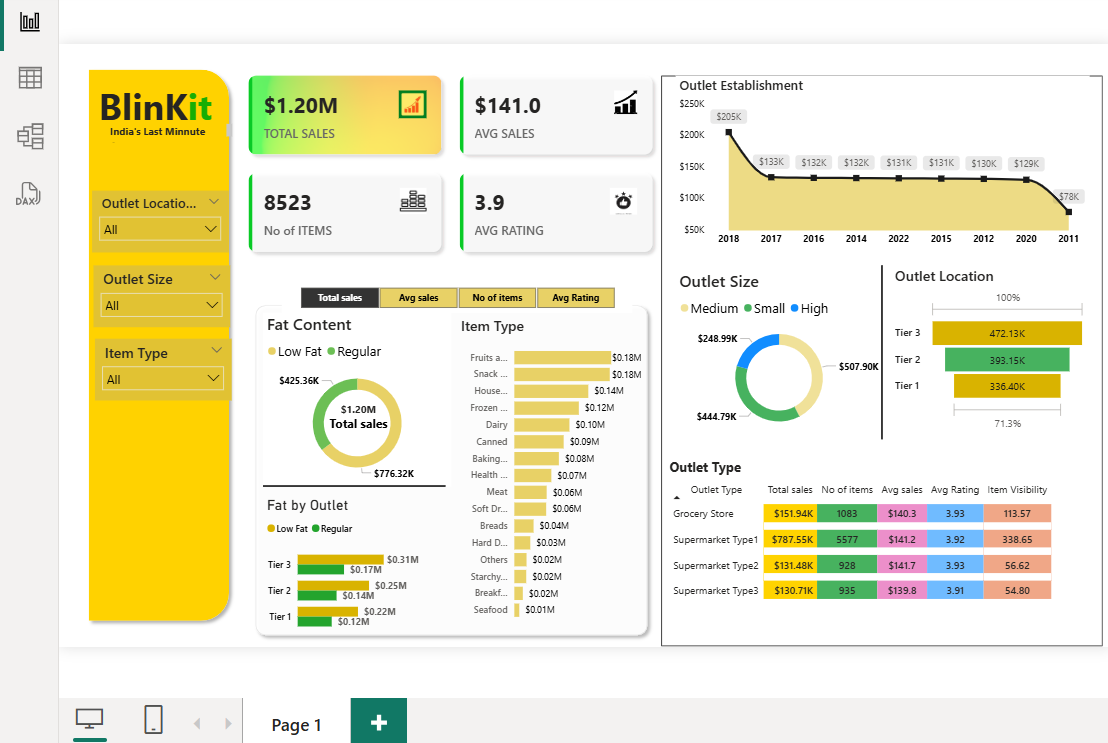

Layout of this report page (visuals, bound fields, positions):
{"tool":"powerbi","page":{"name":"Page 1","canvas":[1400,800],"ordinal":0},"visuals":[{"type":"shape","box":[30.5,24.8,204.2,750],"z":0},{"type":"textbox","box":[280.5,664.2,202.3,110.7],"z":1000},{"type":"textbox","box":[47.7,43.9,164.1,91.6],"z":2000},{"type":"textbox","box":[425.6,181.3,313,122.1],"z":3000},{"type":"textbox","box":[280.5,566.8,202.3,97.3],"z":4000},{"type":"textbox","box":[63,101.2,171.8,34.4],"z":5000},{"type":"cardVisual","fields":{"Data":["BlinkIT Grocery Data.Total sales","BlinkIT Grocery Data.Avg sales","BlinkIT Grocery Data.No of items","BlinkIT Grocery Data.Avg Rating"]},"box":[234.7,24.8,570.6,269.1],"z":6000},{"type":"shape","box":[251.9,337.8,538.2,456.1],"z":7000},{"type":"donutChart","title":"Fat Content","fields":{"Y":["BlinkIT Grocery Data.Total sales"],"Category":["BlinkIT Grocery Data.Item Fat Content"]},"box":[271,356.9,250,230.9],"z":8000},{"type":"slicer","fields":{"Values":["metrics.metrics"]},"box":[295.8,316.8,465.7,40.1],"z":9000},{"type":"cardVisual","fields":{"Data":["BlinkIT Grocery Data.Total sales"]},"box":[341.6,458,112.6,61.1],"z":10000},{"type":"clusteredBarChart","title":"Fat by Outlet","fields":{"Y":["BlinkIT Grocery Data.Total sales"],"Category":["BlinkIT Grocery Data.Outlet Location Type"],"Series":["BlinkIT Grocery Data.Item Fat Content"]},"box":[271,601.2,211.8,192.8],"z":11000},{"type":"shape","box":[271,564.9,242.4,43.9],"z":12000},{"type":"barChart","title":"Item Type","fields":{"Y":["BlinkIT Grocery Data.Total sales"],"Category":["BlinkIT Grocery Data.Item Type"]},"box":[528.7,360.7,250,414.1],"z":13000},{"type":"shape","box":[799.7,42,585.9,757.7],"z":14000},{"type":"lineChart","title":"Outlet Establishment ","fields":{"Y":["BlinkIT Grocery Data.Total sales"],"Category":["BlinkIT Grocery Data.Outlet Establishment Year"]},"box":[818.7,42,549.6,234.7],"z":15000},{"type":"donutChart","title":"Outlet Size","fields":{"Y":["BlinkIT Grocery Data.Total sales"],"Category":["BlinkIT Grocery Data.Outlet Size"]},"box":[818.7,299.6,274.8,225.2],"z":16000},{"type":"shape","box":[977.1,293.9,230.9,230.9],"z":17000},{"type":"funnel","title":" Outlet Location ","fields":{"Y":["Sum(BlinkIT Grocery Data.Sales)"],"Category":["BlinkIT Grocery Data.Outlet Location Type"]},"box":[1105,293.9,263.4,225.2],"z":18000},{"type":"pivotTable","title":"Outlet Type","fields":{"Rows":["BlinkIT Grocery Data.Outlet Type"],"Values":["BlinkIT Grocery Data.Total sales","BlinkIT Grocery Data.No of items","BlinkIT Grocery Data.Avg sales","BlinkIT Grocery Data.Avg Rating","Sum(BlinkIT Grocery Data.Item Visibility)"]},"box":[805.4,549.6,568.7,230.9],"z":19000},{"type":"slicer","fields":{"Values":["BlinkIT Grocery Data.Outlet Location Type"]},"box":[43.9,194.7,181.3,82.1],"z":19001},{"type":"slicer","fields":{"Values":["BlinkIT Grocery Data.Outlet Size"]},"box":[45.8,293.9,181.3,82.1],"z":19002},{"type":"slicer","fields":{"Values":["BlinkIT Grocery Data.Item Type"]},"box":[47.7,391.2,181.3,82.1],"z":19003}]}

Visuals, with their boxes on the page's 1400x800 design canvas (x1, y1, x2, y2). These are canvas units, not pixel positions in the 1108x743 screenshot, which may show the page scaled, cropped or inside an application window:
shape: <bbox>30, 25, 235, 775</bbox>
textbox: <bbox>280, 664, 483, 775</bbox>
textbox: <bbox>48, 44, 212, 136</bbox>
textbox: <bbox>426, 181, 739, 303</bbox>
textbox: <bbox>280, 567, 483, 664</bbox>
textbox: <bbox>63, 101, 235, 136</bbox>
cardVisual - BlinkIT Grocery Data.Total sales x BlinkIT Grocery Data.Avg sales: <bbox>235, 25, 805, 294</bbox>
shape: <bbox>252, 338, 790, 794</bbox>
"Fat Content" donutChart: <bbox>271, 357, 521, 588</bbox>
slicer - metrics.metrics: <bbox>296, 317, 762, 357</bbox>
cardVisual - BlinkIT Grocery Data.Total sales: <bbox>342, 458, 454, 519</bbox>
"Fat by Outlet" clusteredBarChart: <bbox>271, 601, 483, 794</bbox>
shape: <bbox>271, 565, 513, 609</bbox>
"Item Type" barChart: <bbox>529, 361, 779, 775</bbox>
shape: <bbox>800, 42, 1386, 800</bbox>
"Outlet Establishment " lineChart: <bbox>819, 42, 1368, 277</bbox>
"Outlet Size" donutChart: <bbox>819, 300, 1094, 525</bbox>
shape: <bbox>977, 294, 1208, 525</bbox>
" Outlet Location " funnel: <bbox>1105, 294, 1368, 519</bbox>
"Outlet Type" pivotTable: <bbox>805, 550, 1374, 780</bbox>
slicer - BlinkIT Grocery Data.Outlet Location Type: <bbox>44, 195, 225, 277</bbox>
slicer - BlinkIT Grocery Data.Outlet Size: <bbox>46, 294, 227, 376</bbox>
slicer - BlinkIT Grocery Data.Item Type: <bbox>48, 391, 229, 473</bbox>
